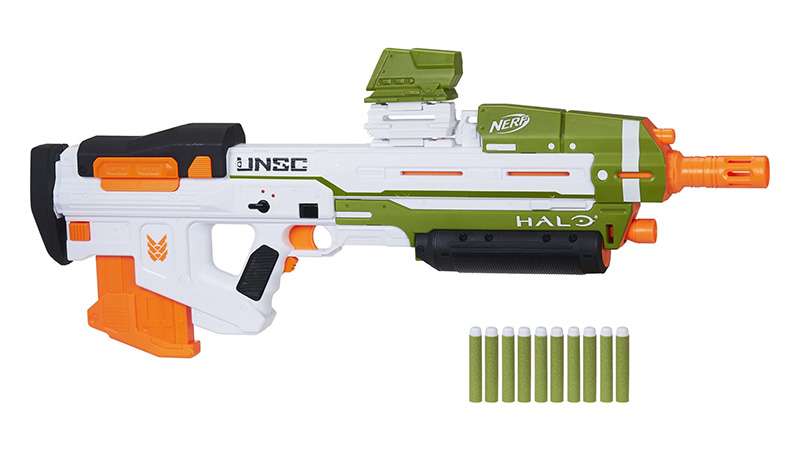Arma Falsa: (30, 46, 772, 369)
